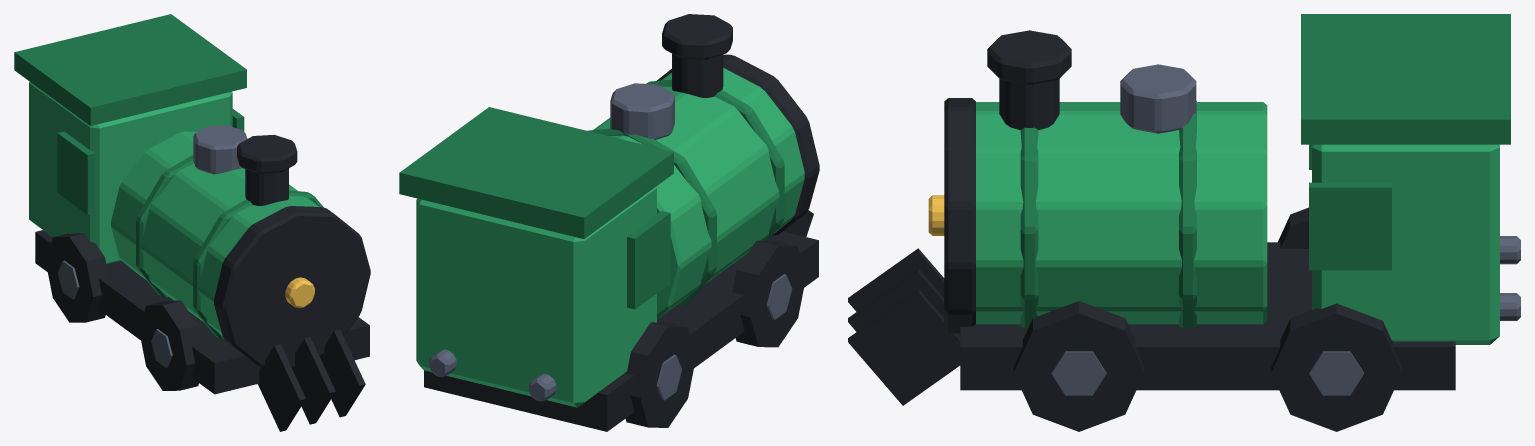
File: SM_Vehicle_TrainEngine.fbx
The picture shows the model from 3 angles, left to right: view 1: azimuth 30°, elevation 25°; view 2: azimuth 150°, elevation 25°; view 3: azimuth 270°, elevation 25°; orthographic projection. The views are drawn at different scales.
Visible parts, largest first — view 1: SM_Vehicle_TrainEngine; view 2: SM_Vehicle_TrainEngine; view 3: SM_Vehicle_TrainEngine.
Boxes of the visible parts, x1,y1,x2,y2 form: SM_Vehicle_TrainEngine: [14, 14, 370, 431]; SM_Vehicle_TrainEngine: [399, 14, 819, 431]; SM_Vehicle_TrainEngine: [848, 14, 1520, 431].
Bounding box in the file's own units: 1.42 × 1.88 × 3.4.
